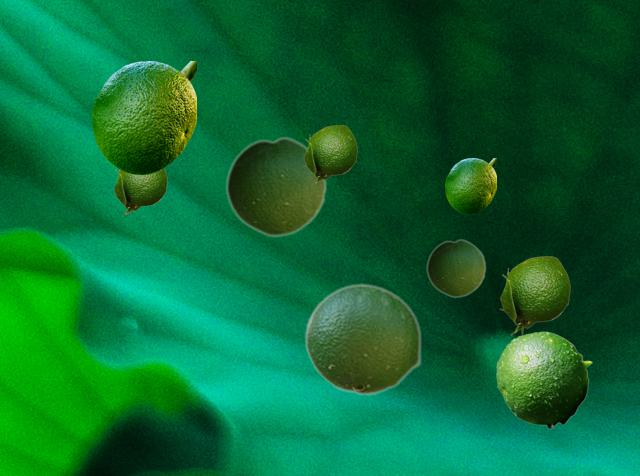dalandan: (304, 283, 421, 395), (92, 61, 195, 173), (225, 135, 326, 237), (496, 331, 591, 428), (499, 256, 569, 334), (426, 238, 485, 297), (303, 125, 356, 184), (445, 158, 495, 213), (113, 168, 166, 215)
